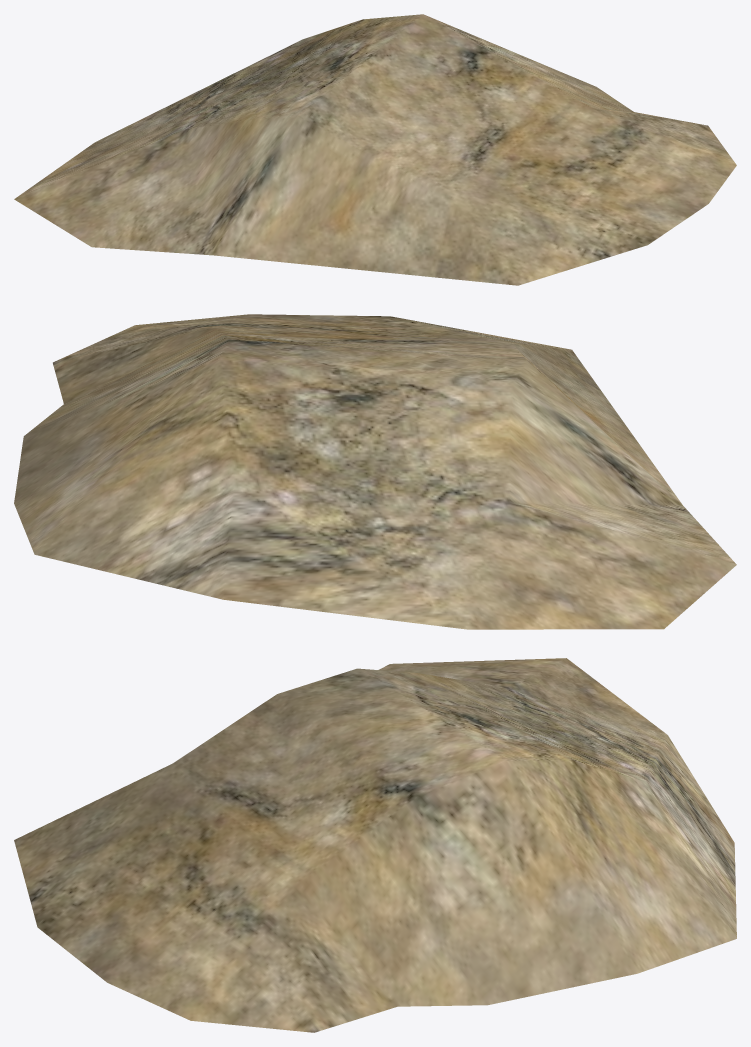
The model's file is dirt_pile_cave.fbx.
3 renders of one model, top to bottom at view 1: azimuth 30°, elevation 25°; view 2: azimuth 150°, elevation 25°; view 3: azimuth 270°, elevation 25°, orthographic. The views are drawn at different scales.
Visible parts, largest first — view 1: dirt_pile_cave; view 2: dirt_pile_cave; view 3: dirt_pile_cave.
Boxes of the visible parts, <box> form: dirt_pile_cave: <box>14,14,736,285</box>; dirt_pile_cave: <box>14,314,736,629</box>; dirt_pile_cave: <box>14,658,736,1032</box>.
Bounding box in the file's own units: 1713 × 300 × 1397.
Materials: 1 (1 with a texture image).
